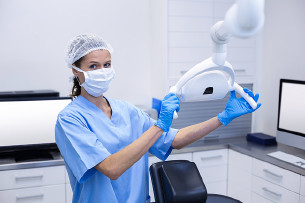face_mask: (80, 50, 113, 95)
